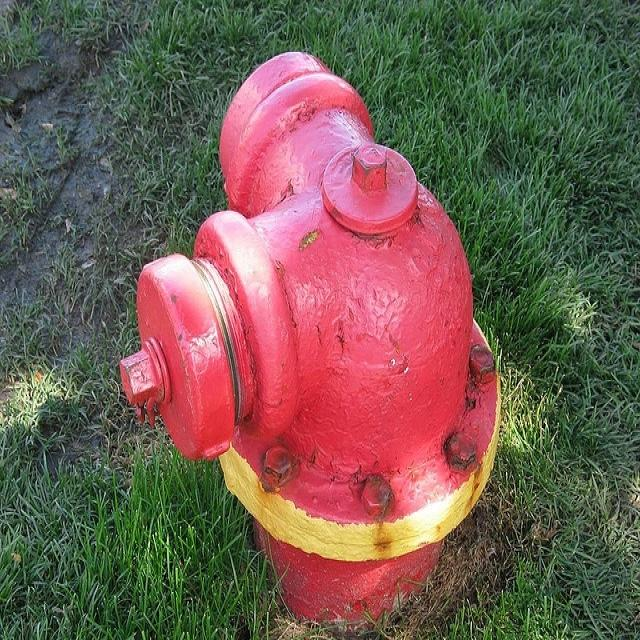fire_hydrant: (144, 41, 504, 630)
